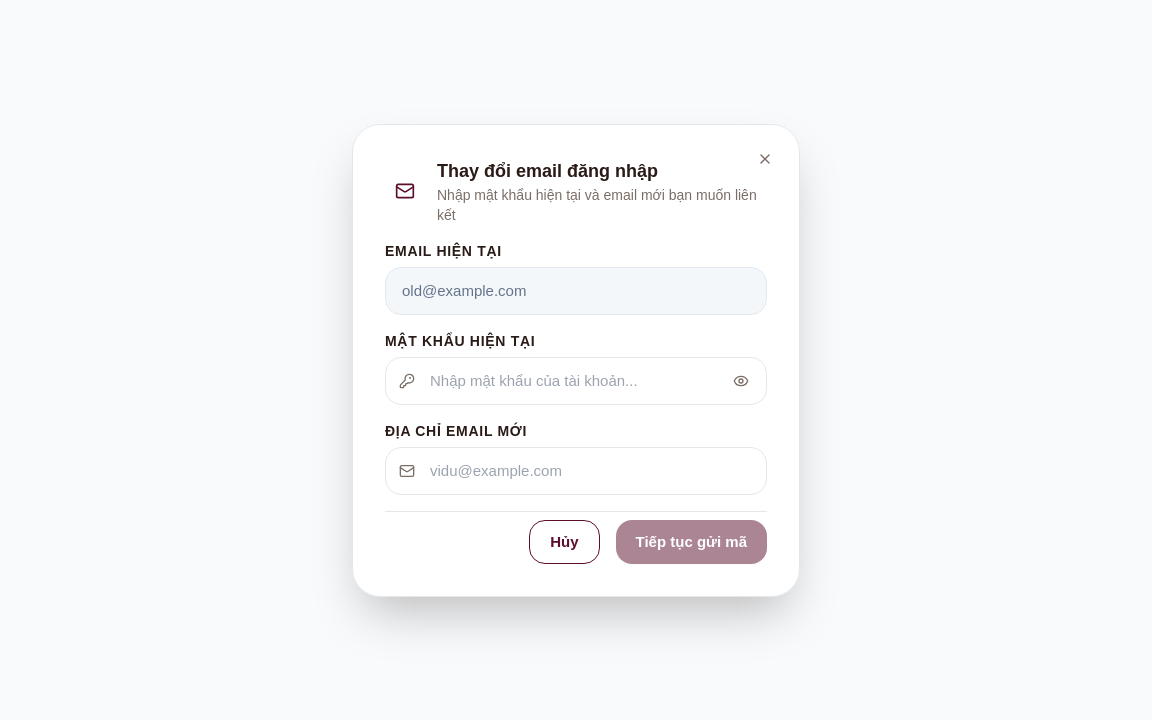
it: ChangeEmailDialog › Step 1: Request Email Change › submits Step 1 and navigates to Step 2 on success
Type "ValidPassword123!" into the password field with placeholder "Nhập mật khẩu của tài khoản..." at (576, 380), box [385,356,767,404]
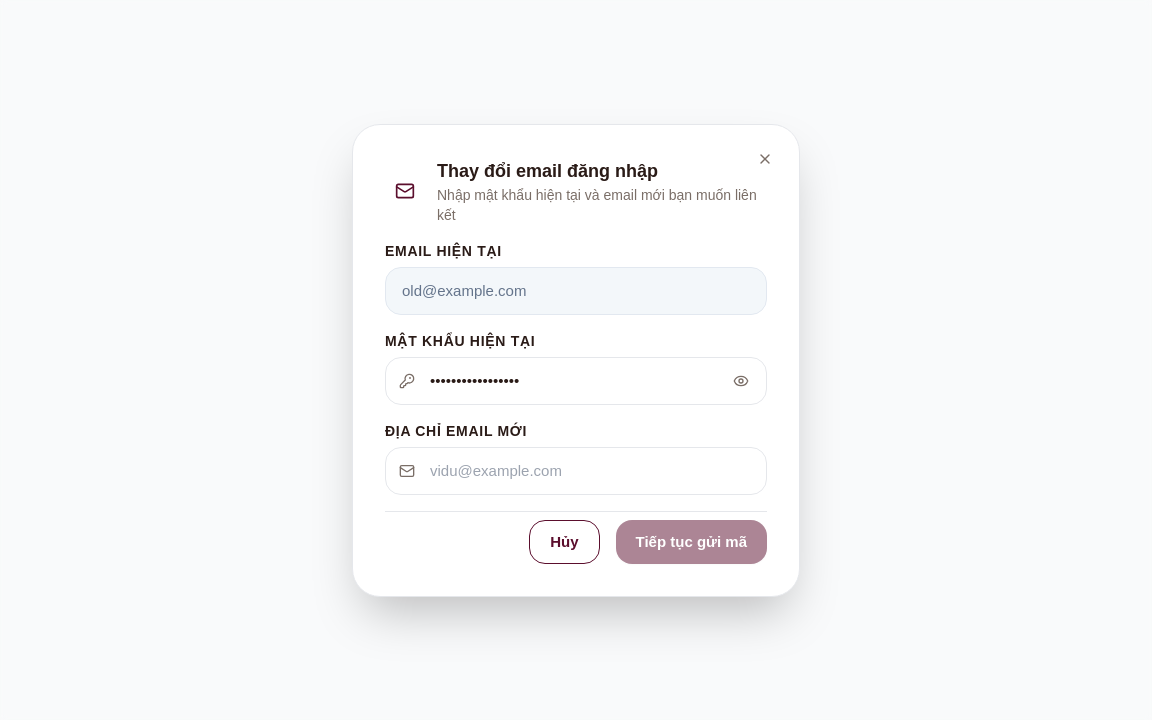
Type "new@example.com" into the field with placeholder "vidu@example.com" at (576, 470), box [385,446,767,494]
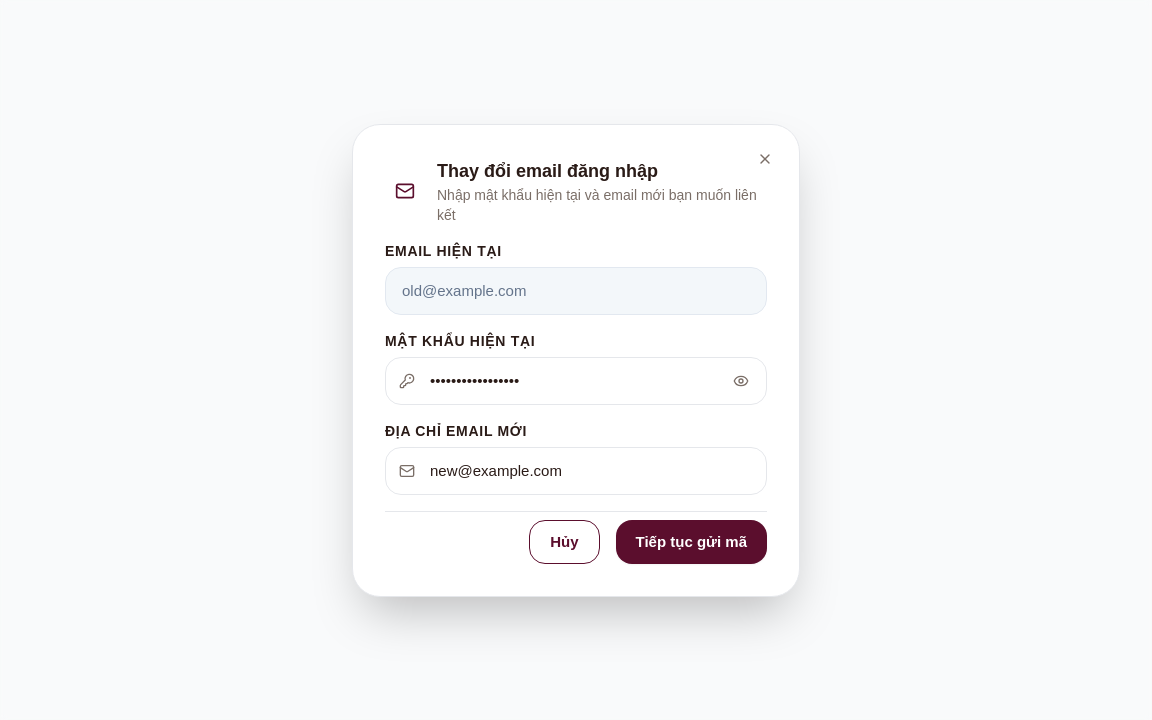
Click the button "Tiếp tục gửi mã" at (691, 542), box [616,520,767,564]
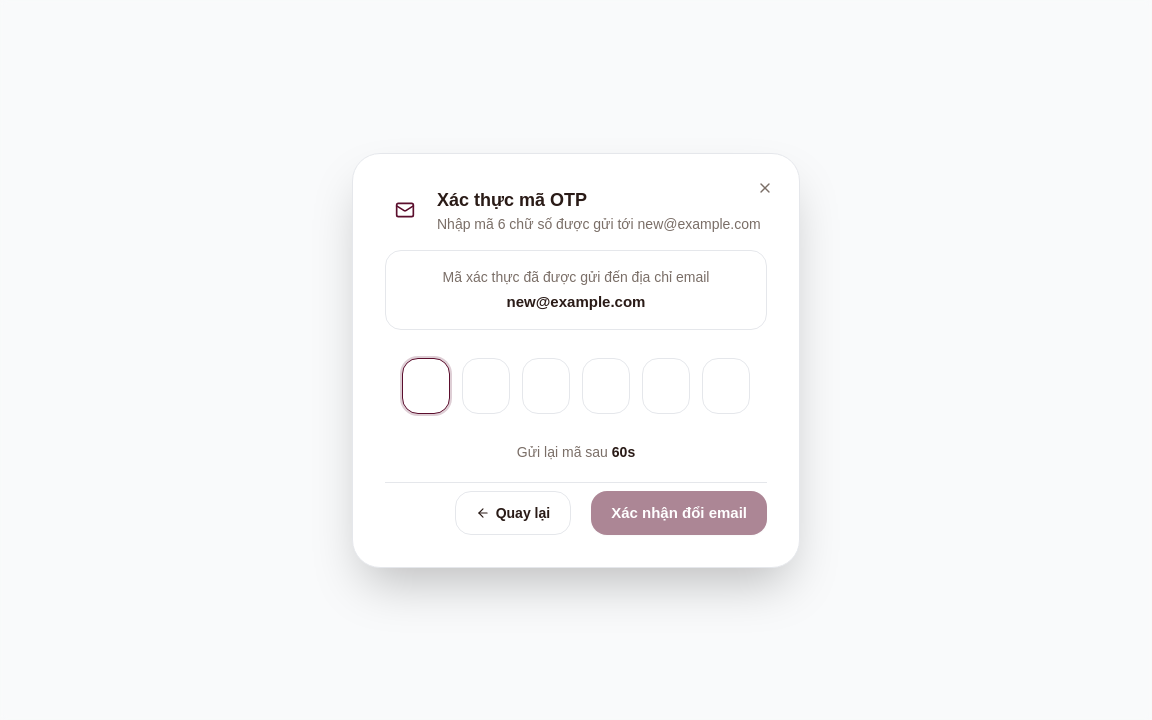
Now the heading "Xác thực mã OTP" is shown, box [437,190,587,210]
Now the text "new@example.com" is shown, box [507,292,646,310]
